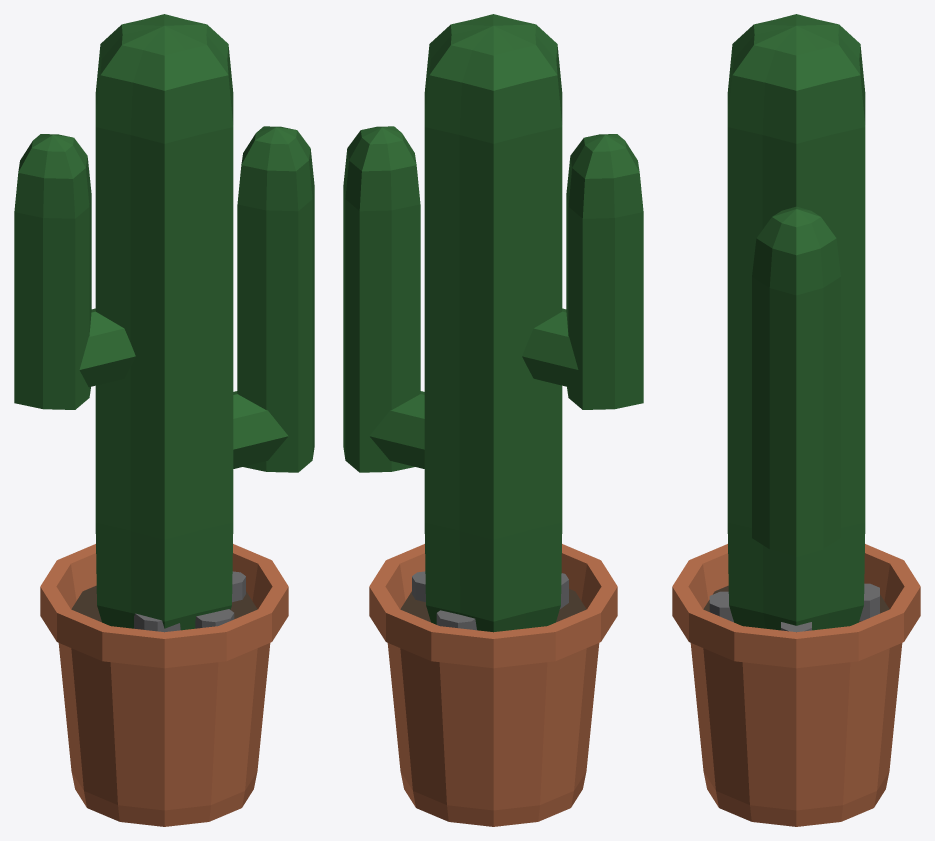
File: SM_LPI_Plant_Cactus_01.fbx
The picture shows the model from 3 angles, left to right: view 1: azimuth 30°, elevation 25°; view 2: azimuth 150°, elevation 25°; view 3: azimuth 270°, elevation 25°; orthographic projection.
Parts seen in each view (by area): view 1: SM_LPI_Plant_Cactus_01; view 2: SM_LPI_Plant_Cactus_01; view 3: SM_LPI_Plant_Cactus_01.
Boxes of the visible parts, x1,y1,x2,y2 form: SM_LPI_Plant_Cactus_01: [14, 14, 314, 826]; SM_LPI_Plant_Cactus_01: [343, 14, 643, 826]; SM_LPI_Plant_Cactus_01: [672, 14, 920, 826].
Size of the model in its own units: 0.279 by 0.678 by 0.2.
